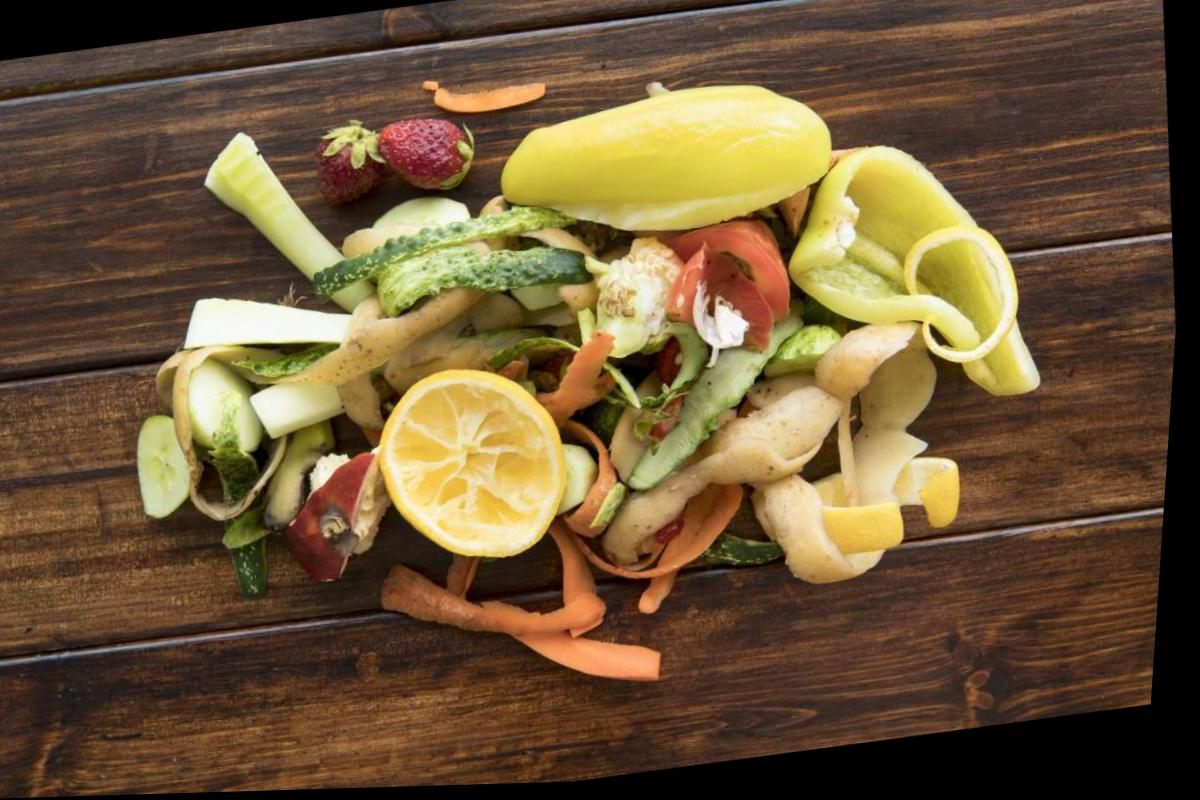organic: (763, 122, 1059, 423), (686, 313, 961, 599), (487, 68, 844, 254), (359, 352, 586, 576), (188, 117, 376, 334), (185, 282, 495, 405), (372, 532, 614, 660), (297, 200, 574, 299), (650, 215, 798, 369), (893, 216, 1029, 368), (271, 444, 404, 590), (800, 450, 968, 560), (375, 234, 589, 318), (159, 278, 346, 367), (572, 234, 694, 363), (192, 430, 278, 607), (474, 627, 670, 704), (372, 113, 480, 200), (305, 114, 393, 211), (129, 406, 201, 522), (244, 371, 348, 443), (420, 65, 549, 120), (679, 522, 790, 581), (756, 322, 846, 383)
